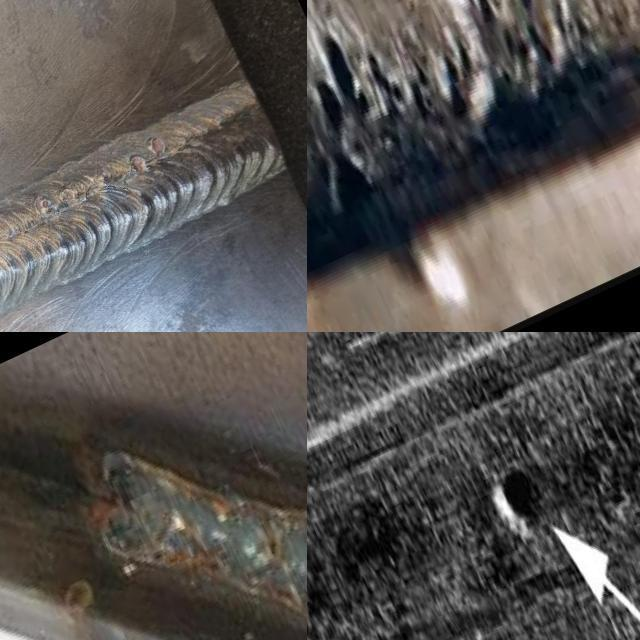defect: (309, 23, 483, 135), (462, 0, 603, 98), (483, 445, 554, 525), (35, 192, 55, 217), (58, 183, 77, 209), (149, 136, 168, 157), (130, 153, 148, 174), (100, 170, 110, 181)
